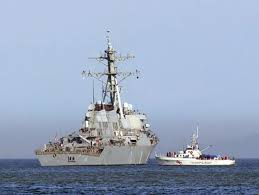tau_muctieu: (34, 43, 161, 168), (157, 131, 238, 167)
